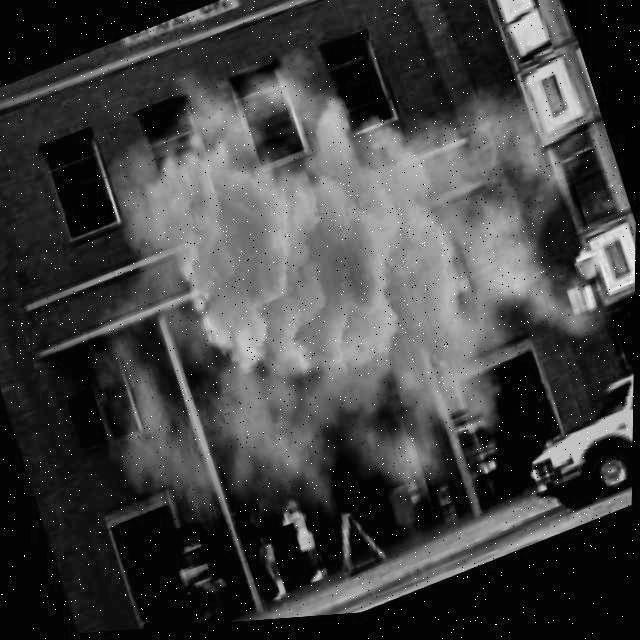Smoke: (6, 0, 636, 630)
